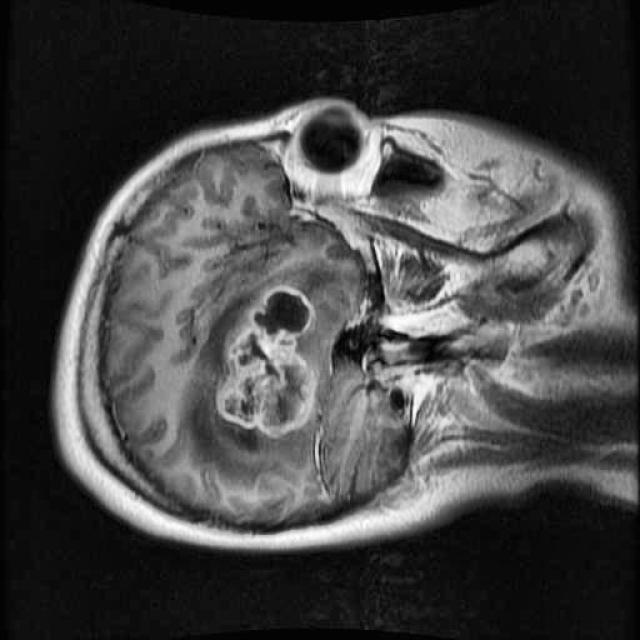Tumor: (203, 310, 331, 449)
